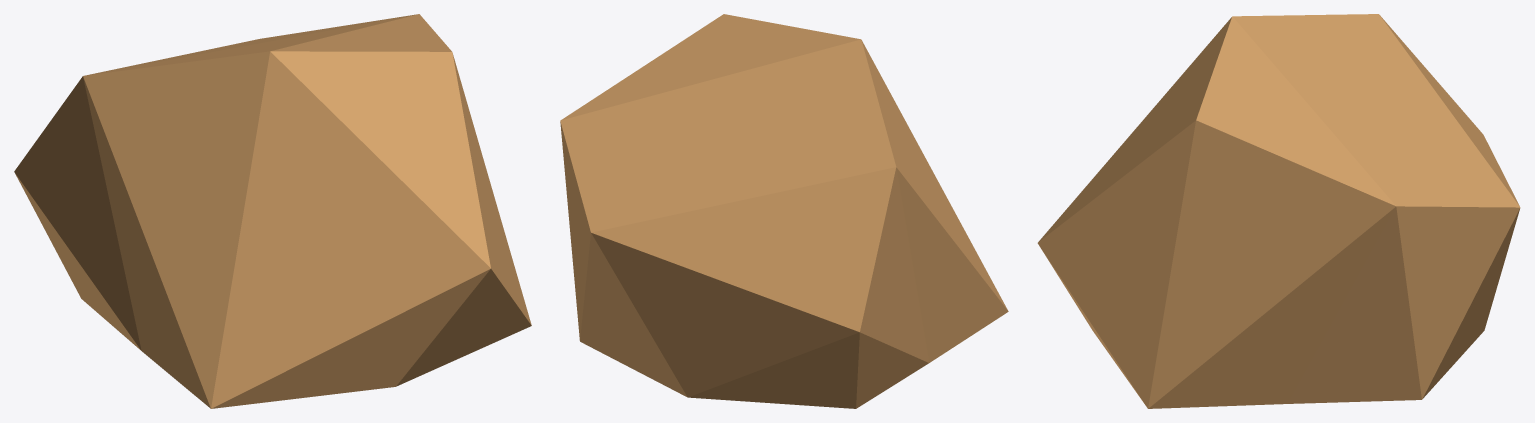
The model's file is decoration_stone_10.glb.
3 renders of one model, left to right at view 1: azimuth 30°, elevation 25°; view 2: azimuth 150°, elevation 25°; view 3: azimuth 270°, elevation 25°, orthographic. The views are drawn at different scales.
Visible parts, largest first — view 1: Plane.070; view 2: Plane.070; view 3: Plane.070.
Boxes of the visible parts, x1,y1,x2,y2 form: Plane.070: (14, 14, 531, 408); Plane.070: (560, 14, 1008, 408); Plane.070: (1037, 14, 1520, 408).
Bounding box in the file's own units: 14.22 × 11.16 × 16.92.
1 material, 1 textured.
